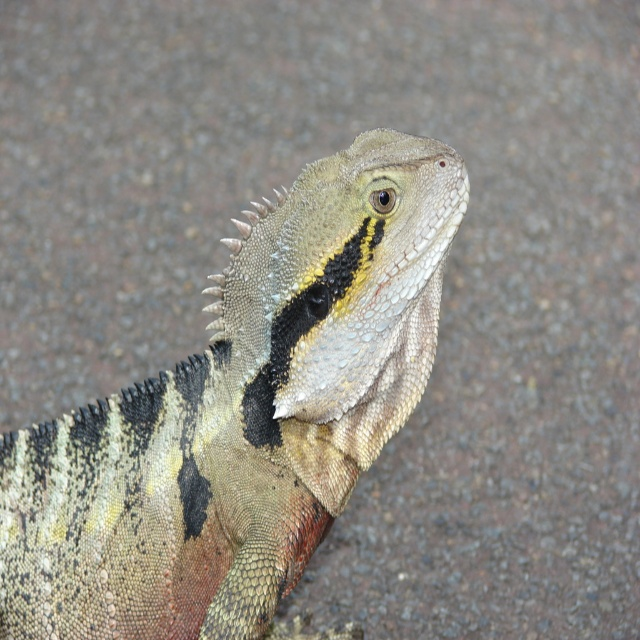Lizard: (0, 127, 471, 640)
